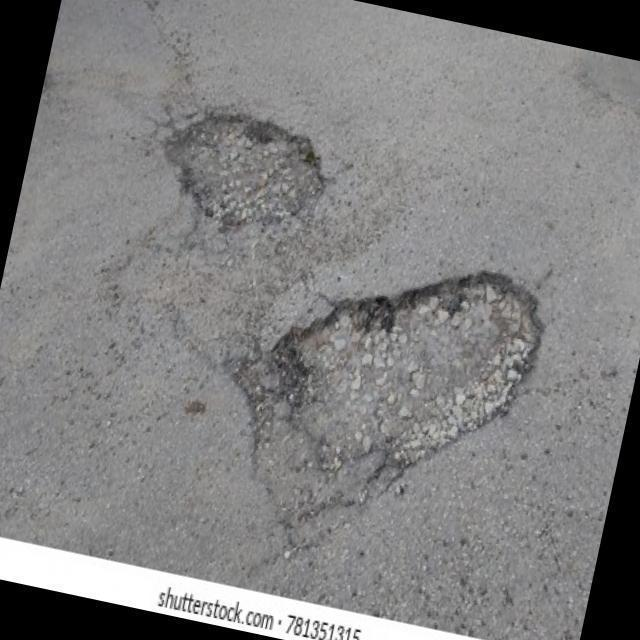Pothole: (238, 272, 546, 552), (160, 91, 327, 231)
